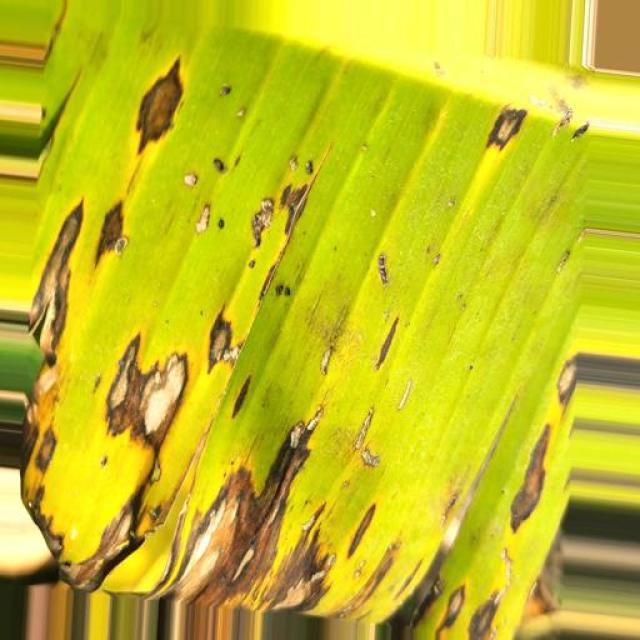Early_rust: (0, 38, 612, 640)
